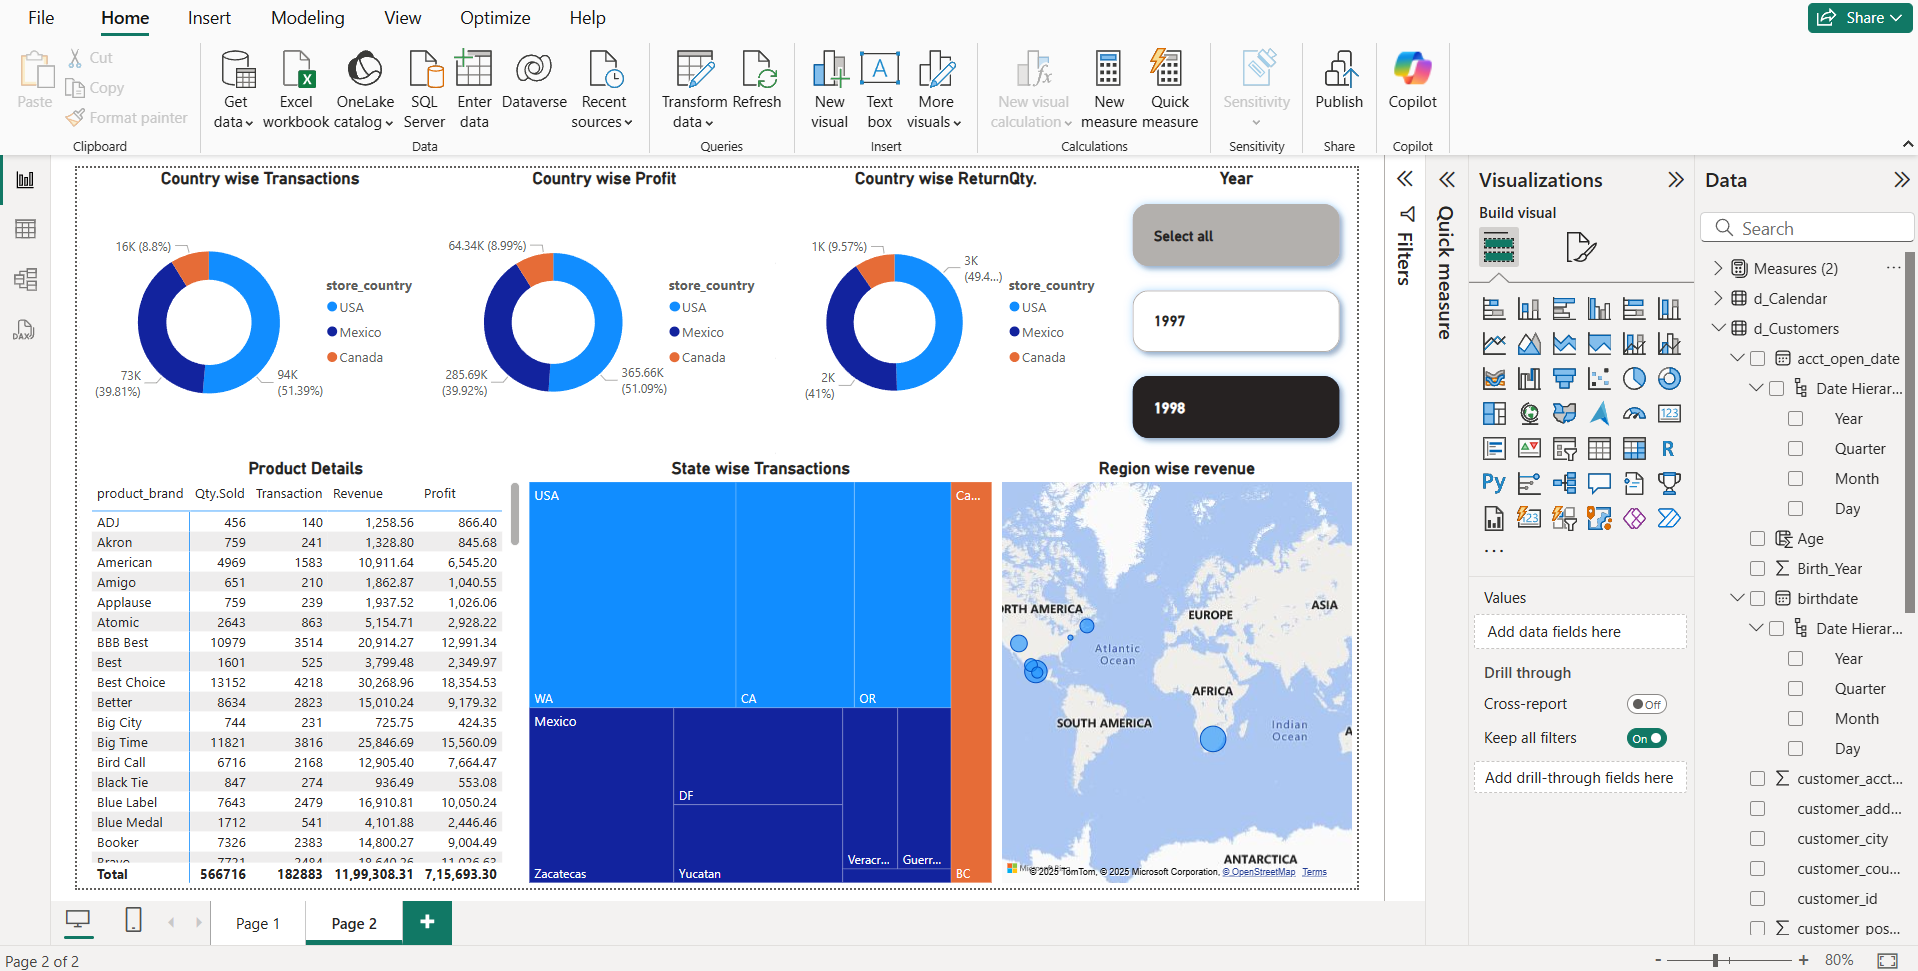

What the dashboard file says about the page in this screenshot:
{"tool":"powerbi","page":{"name":"Page 2","canvas":[1280,720],"ordinal":1},"visuals":[{"type":"donutChart","title":"Country wise Transactions","fields":{"Category":["d_Stores.store_country"],"Y":["Measures (2).M_Total_Transactions"]},"box":[10,0,346.2,290],"z":0},{"type":"donutChart","title":"Country wise Profit ","fields":{"Category":["d_Stores.store_country"],"Y":["Measures (2).M_Total_Profit"]},"box":[356.2,0,342.5,290],"z":1000},{"type":"donutChart","title":"Country wise ReturnQty.","fields":{"Category":["d_Stores.store_country"],"Y":["Measures (2).M_Quantity_Returned"]},"box":[698.8,0,340,290],"z":2000},{"type":"advancedSlicerVisual","fields":{"Values":["d_Calendar.date.Variation.Date Hierarchy.Year"]},"box":[1038.8,0,241.2,290],"z":3000},{"type":"pivotTable","title":"Product Details","fields":{"Rows":["d_Products.product_brand"],"Values":["Measures (2).M_Quantity_Sold","Measures (2).M_Total_Transactions","Measures (2).M_Total_Revenue","Measures (2).M_Total_Profit"]},"box":[10,290,437.5,430],"z":3001},{"type":"treemap","title":"State wise Transactions","fields":{"Group":["d_Stores.store_country"],"Values":["Measures (2).M_Total_Transactions"],"Details":["d_Stores.store_state"]},"box":[447.5,290,472.5,430],"z":3002},{"type":"map","title":"Region wise revenue ","fields":{"Size":["Measures (2).M_Total_Revenue"],"Category":["d_Regions.sales_region"]},"box":[920,290,360,430],"z":3003}]}

Visuals, with their boxes on the page's 1280x720 design canvas (x1, y1, x2, y2). These are canvas units, not pixel positions in the 1918x971 screenshot, which may show the page scaled, cropped or inside an application window:
"Country wise Transactions" donutChart: [left=10, top=0, right=356, bottom=290]
"Country wise Profit " donutChart: [left=356, top=0, right=699, bottom=290]
"Country wise ReturnQty." donutChart: [left=699, top=0, right=1039, bottom=290]
advancedSlicerVisual - d_Calendar.date.Variation.Date Hierarchy.Year: [left=1039, top=0, right=1280, bottom=290]
"Product Details" pivotTable: [left=10, top=290, right=448, bottom=720]
"State wise Transactions" treemap: [left=448, top=290, right=920, bottom=720]
"Region wise revenue " map: [left=920, top=290, right=1280, bottom=720]
